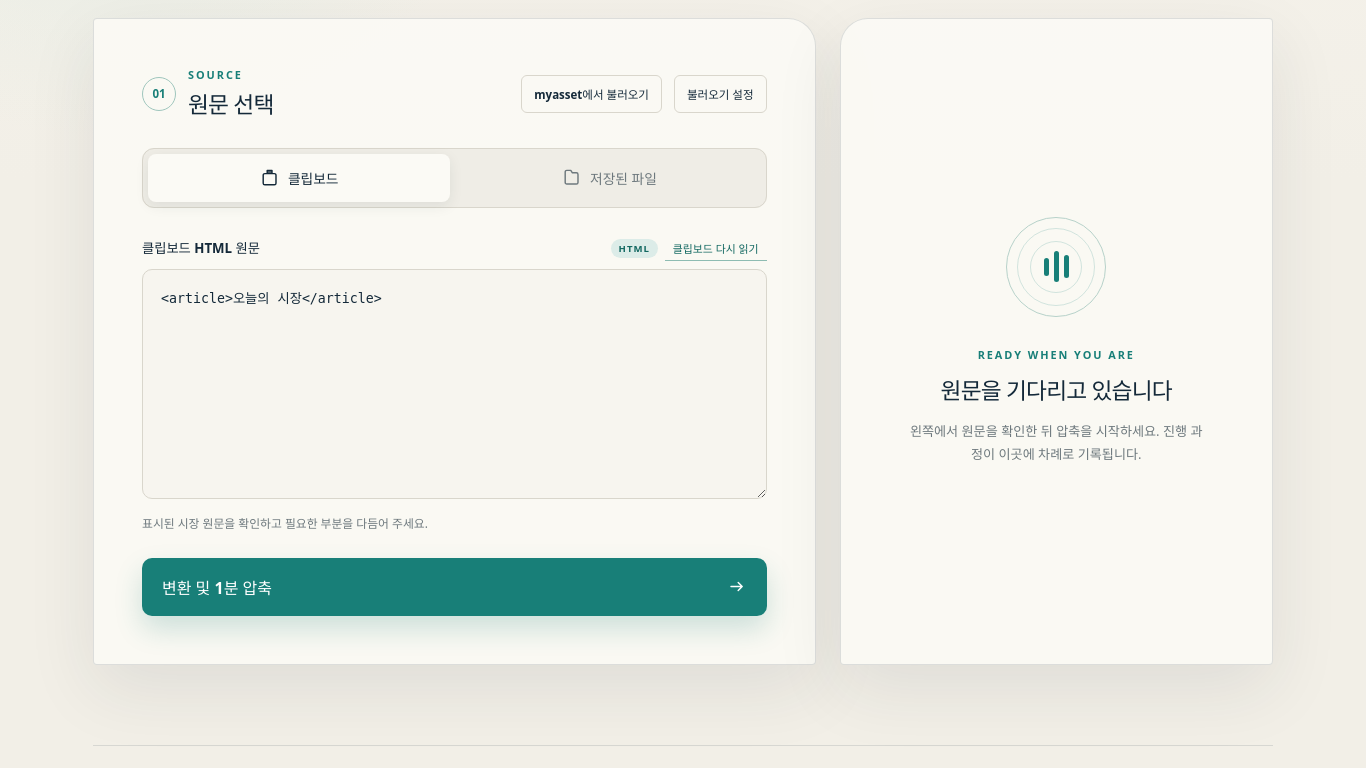
Test: App › 저장된 작업이 없으면 시작할 때 클립보드를 한 번 읽어 편집 가능한 원문에 넣는다
(page scrolled)
Replace the text in the text box labelled "클립보드 HTML 원문" with "<article>수정한 시장</article>" at (454, 384), box [142,269,766,499]
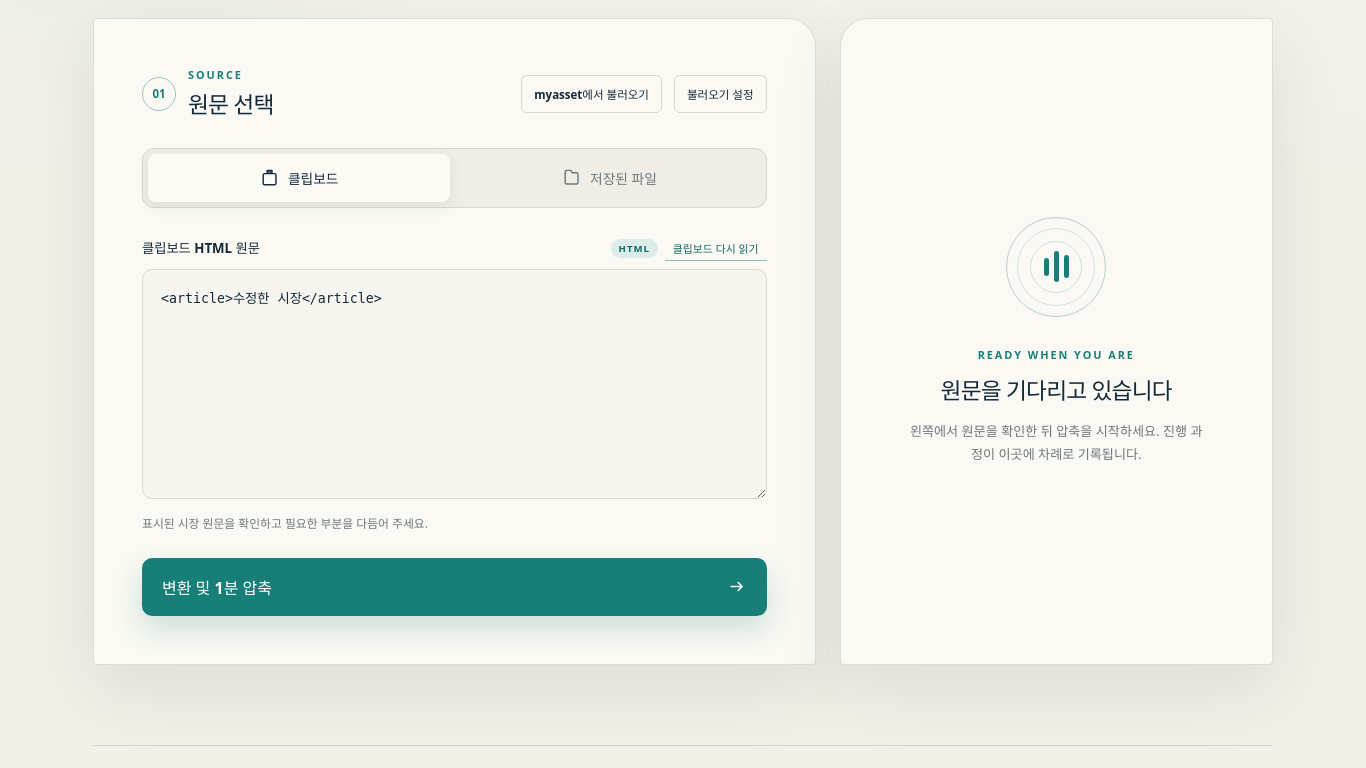
Click the button "클립보드 다시 읽기".
click(716, 248)  # box [665,236,766,261]
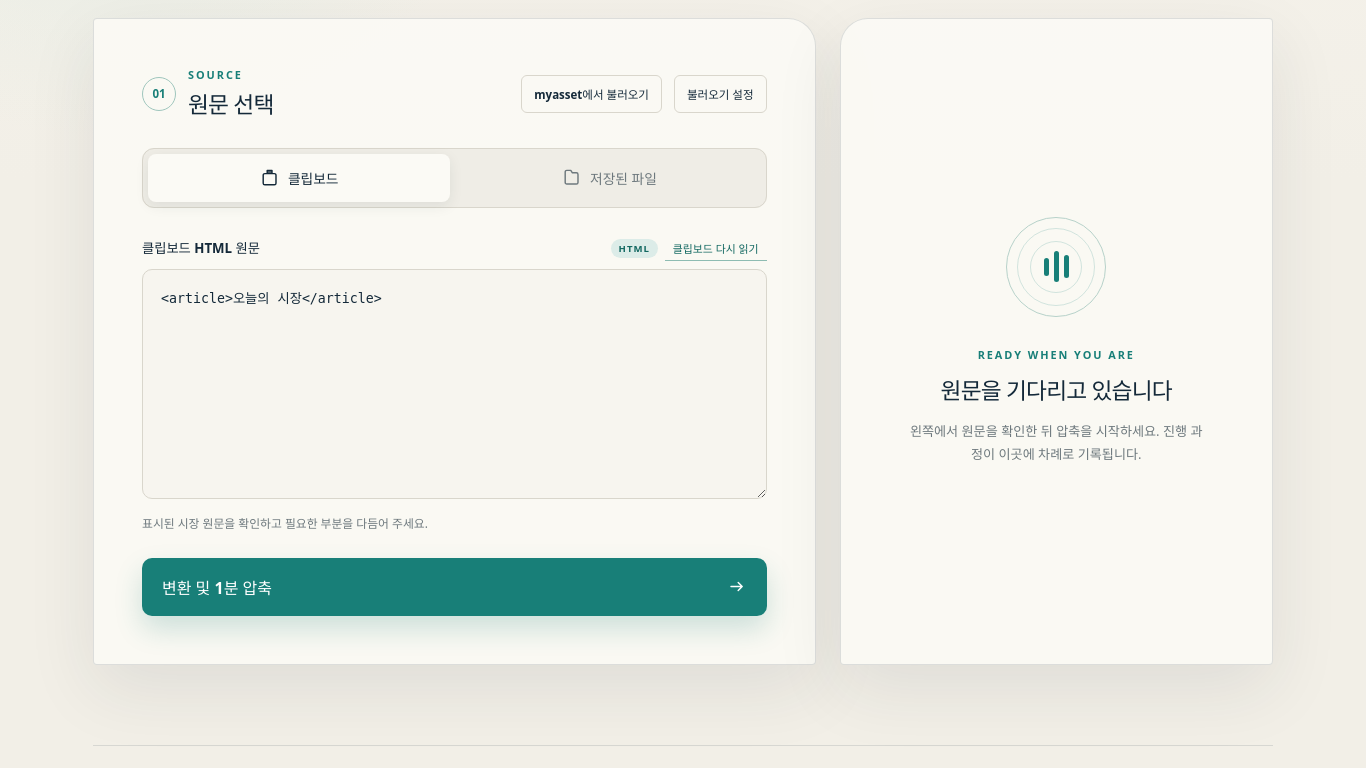
Expected: the text box labelled "클립보드 HTML 원문" holds "<article>오늘의 시장</article>", [142,269,766,499]
